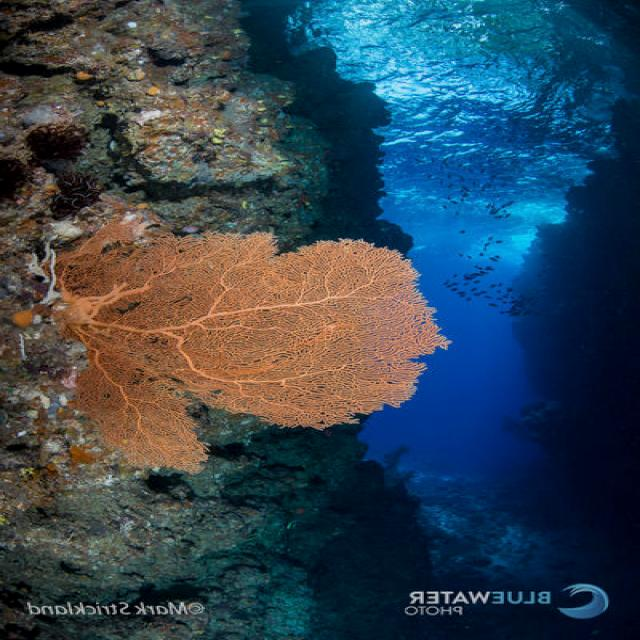Coral: (30, 215, 453, 476)
